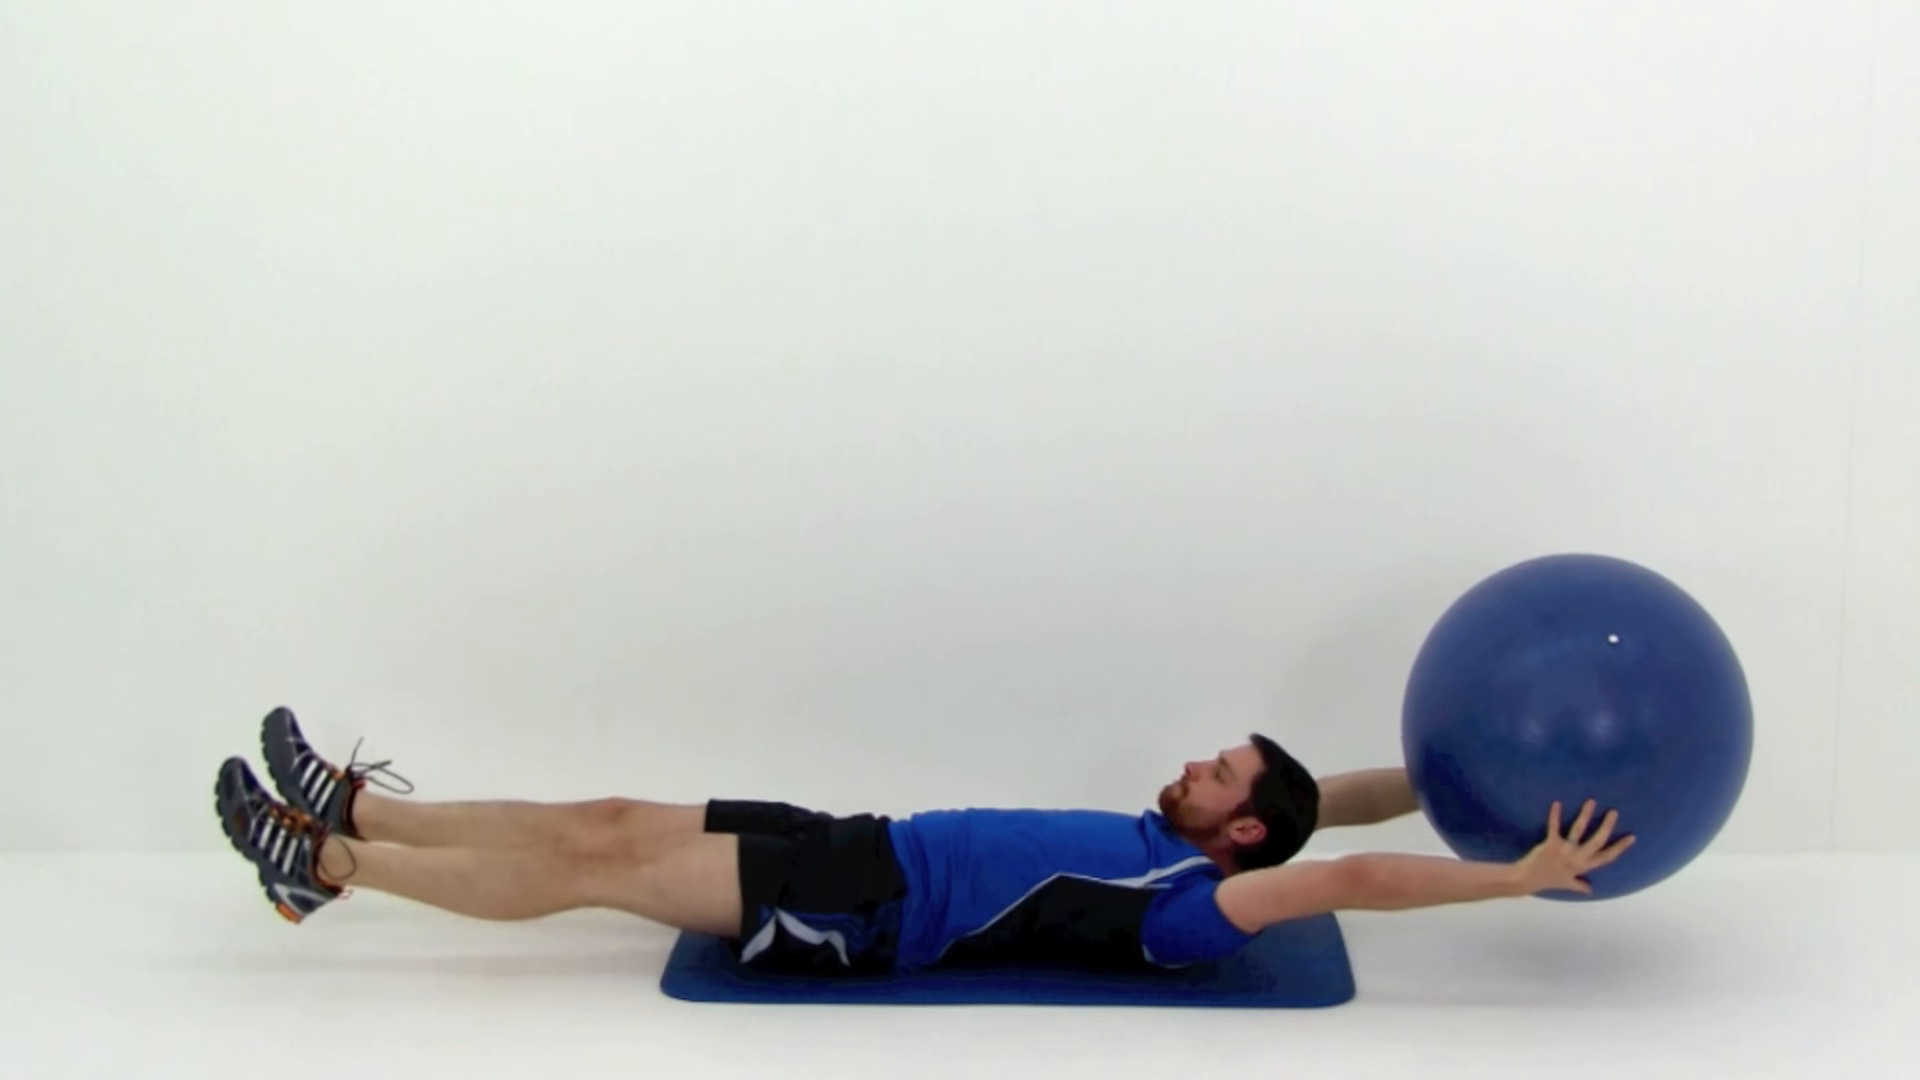yogaball: (1395, 543, 1768, 914)
